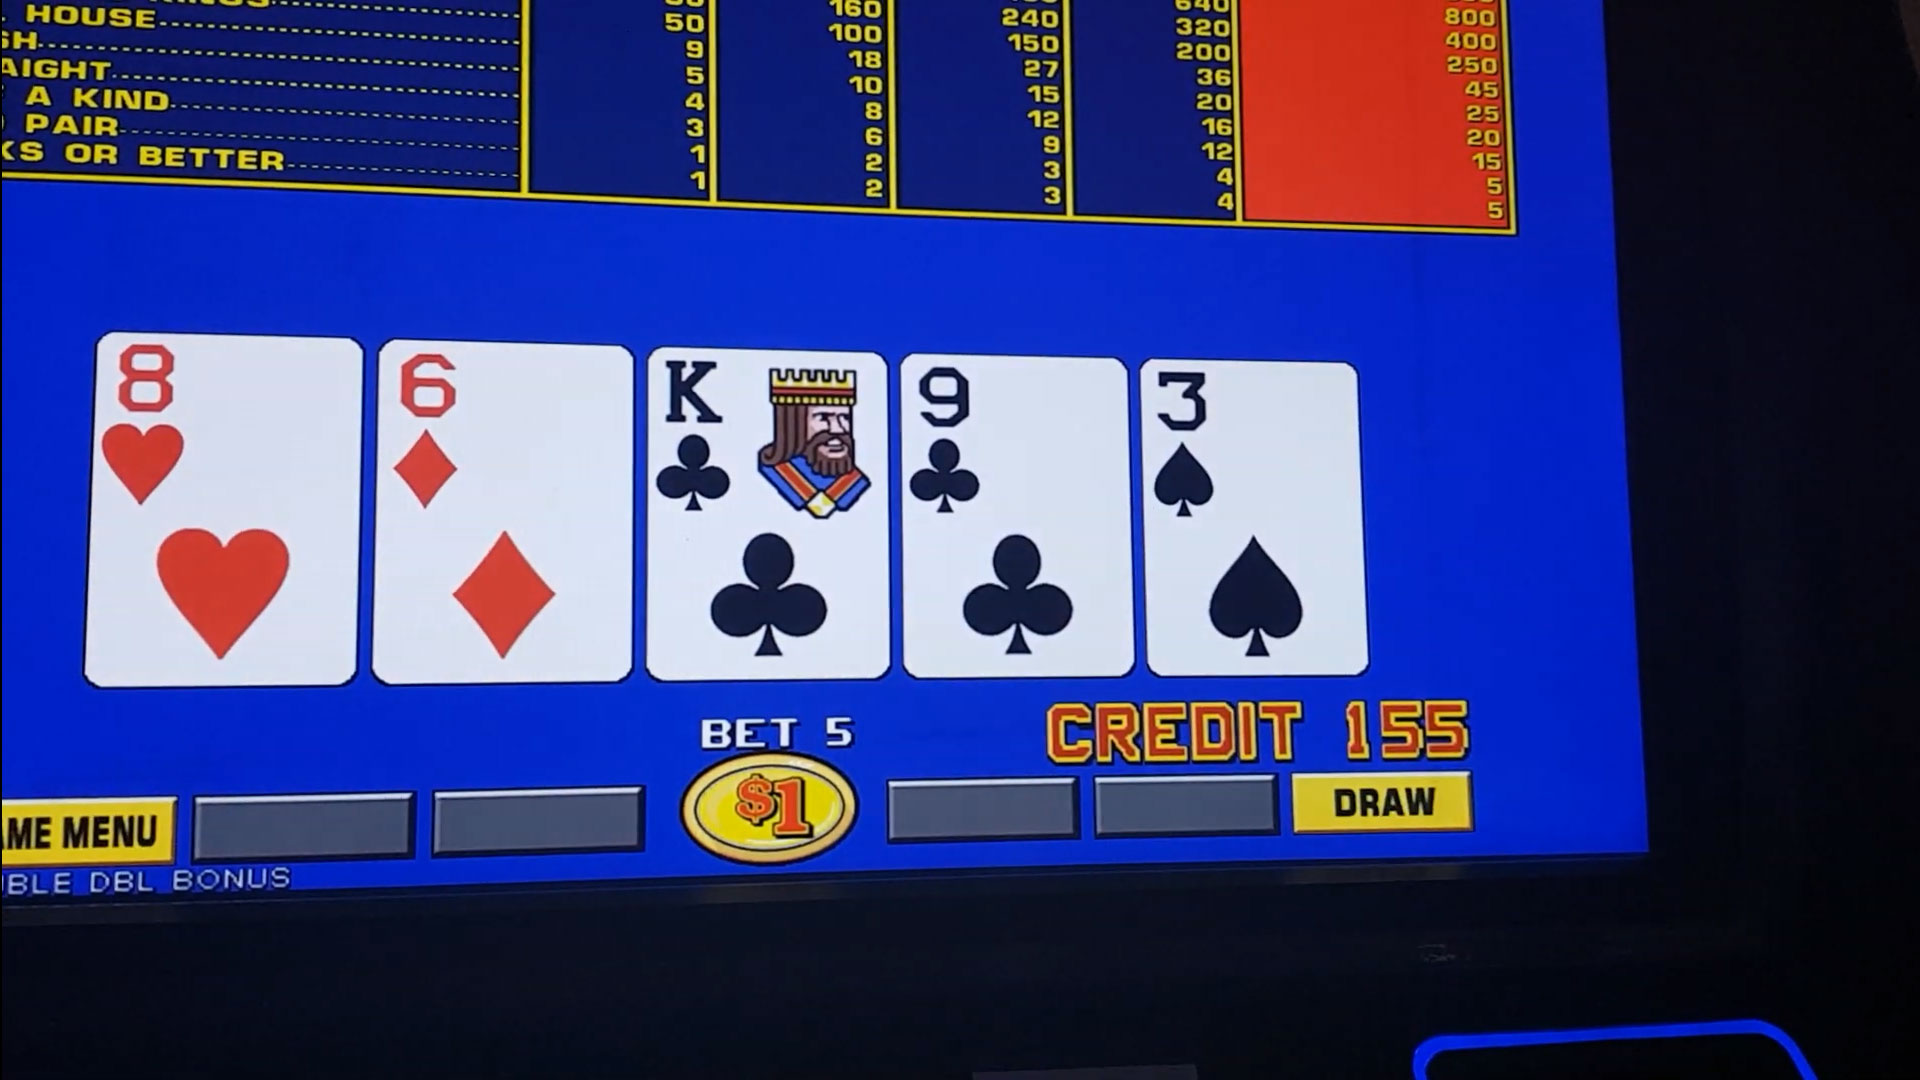C9: (910, 360, 1121, 520)
CK: (654, 349, 880, 524)
D6: (384, 351, 624, 516)
H8: (95, 340, 361, 516)
S3: (1145, 368, 1350, 527)
